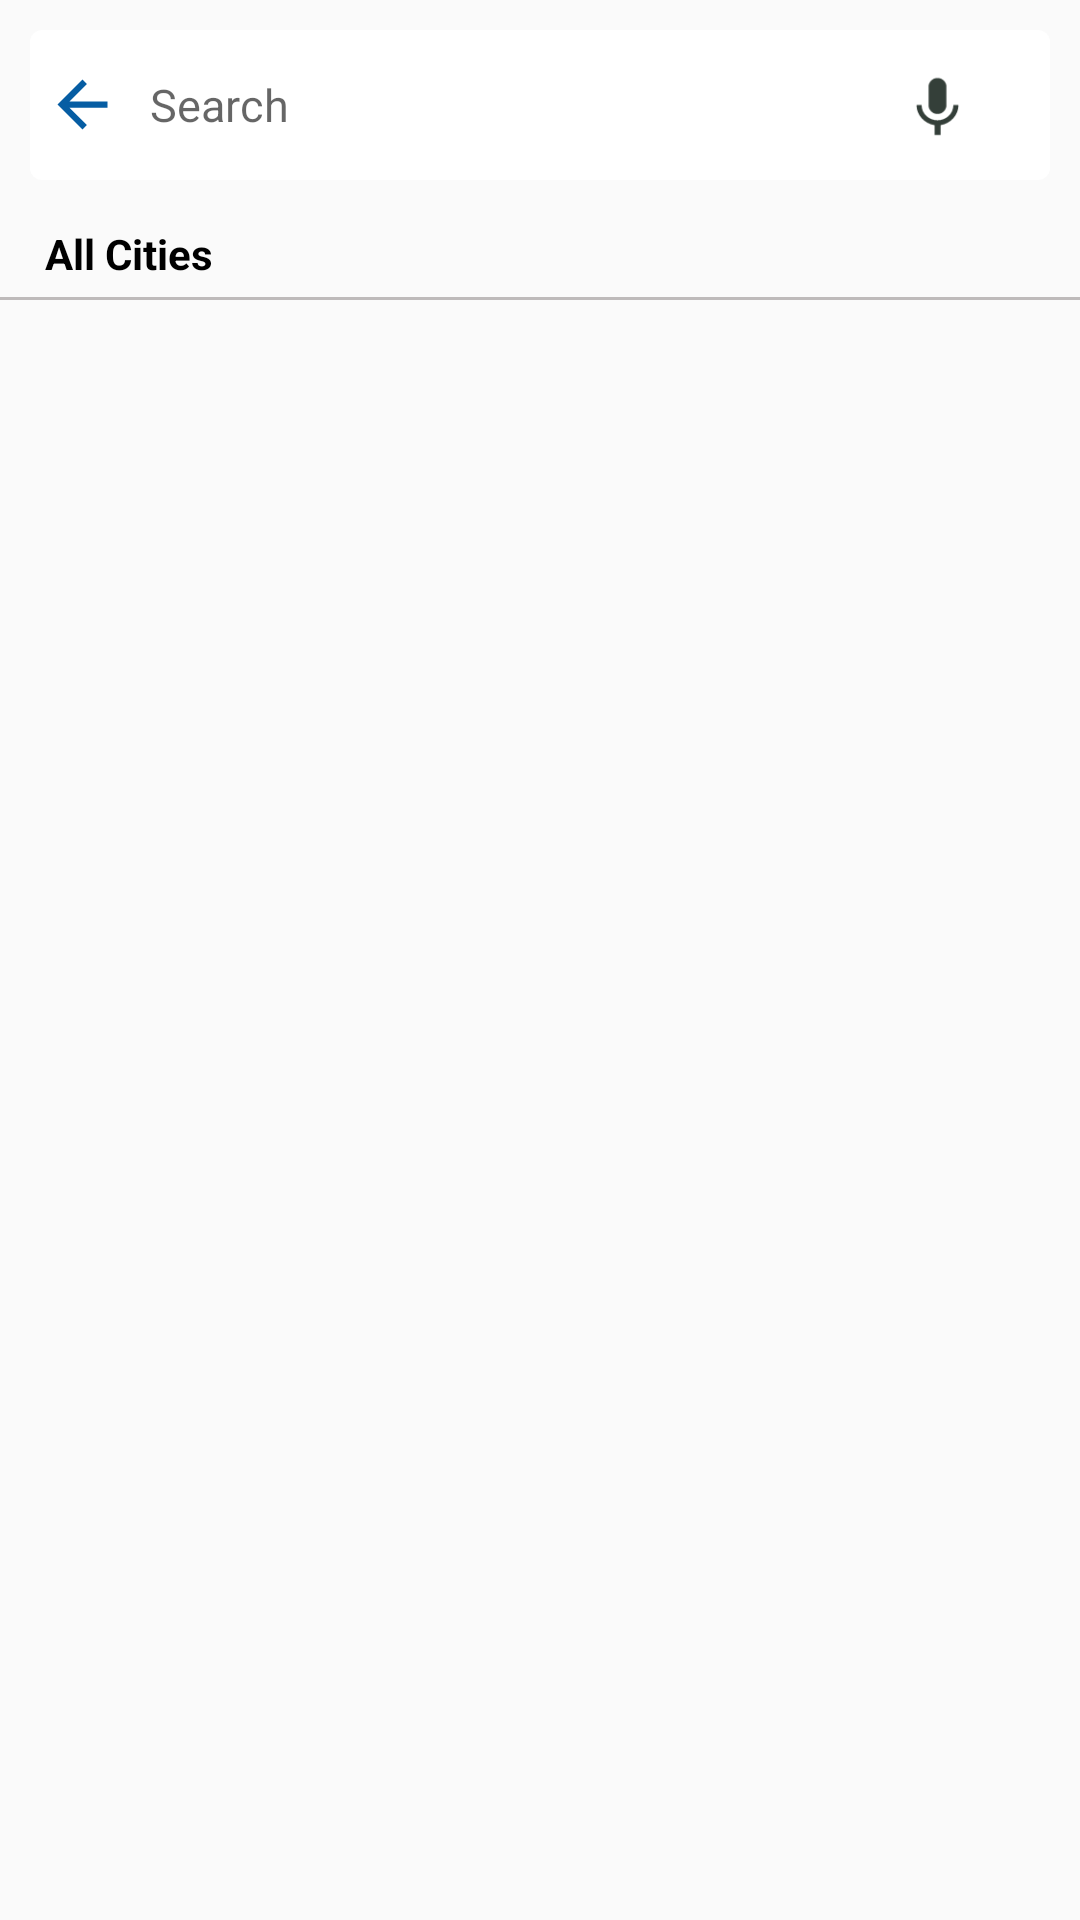

Named icons in this screenshot (1080 × 1920) and their bounding boxes, [x1=x1, y1=y1, x2=x2, y2=y2]:
back: [x1=57, y1=79, x2=108, y2=130]
voice: [x1=916, y1=77, x2=959, y2=136]
